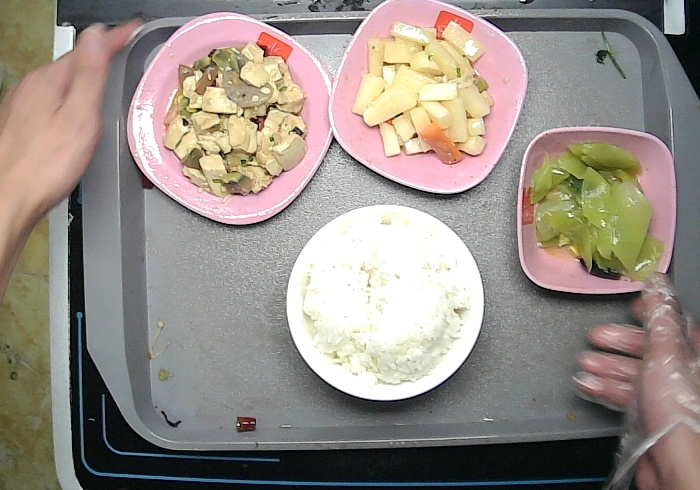SHKJ-Fan_Wan: (283, 205, 484, 401)
SHKJ-Fen_Se_Cai_Die: (329, 1, 527, 193)
SHKJ-Fen_Se_Si_Fang_Cai_Die: (127, 13, 333, 226)
SHKJ-Fen_Se_Xiao_Fang_Die: (517, 126, 675, 292)
